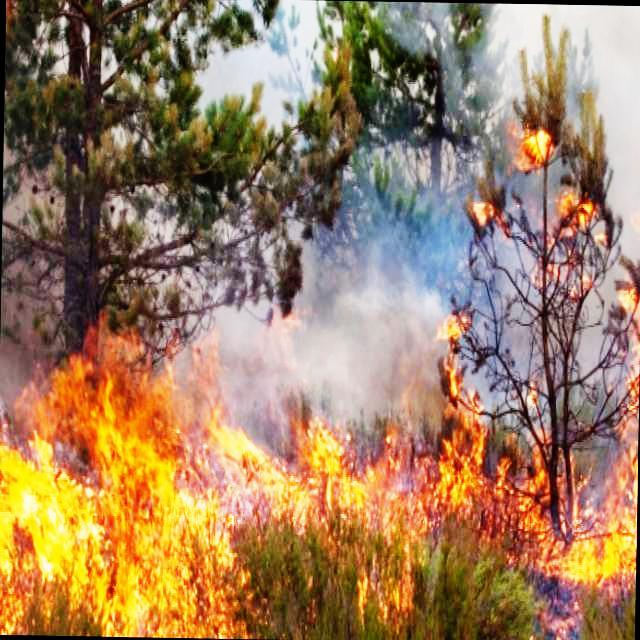api: (1, 384, 216, 635), (228, 424, 381, 520), (386, 438, 553, 522), (569, 452, 640, 592), (34, 322, 195, 383), (362, 544, 425, 632), (217, 523, 257, 640), (508, 116, 565, 185), (446, 312, 479, 428), (621, 289, 640, 445), (556, 196, 592, 235), (470, 200, 501, 237)
asap: (218, 280, 437, 419)
